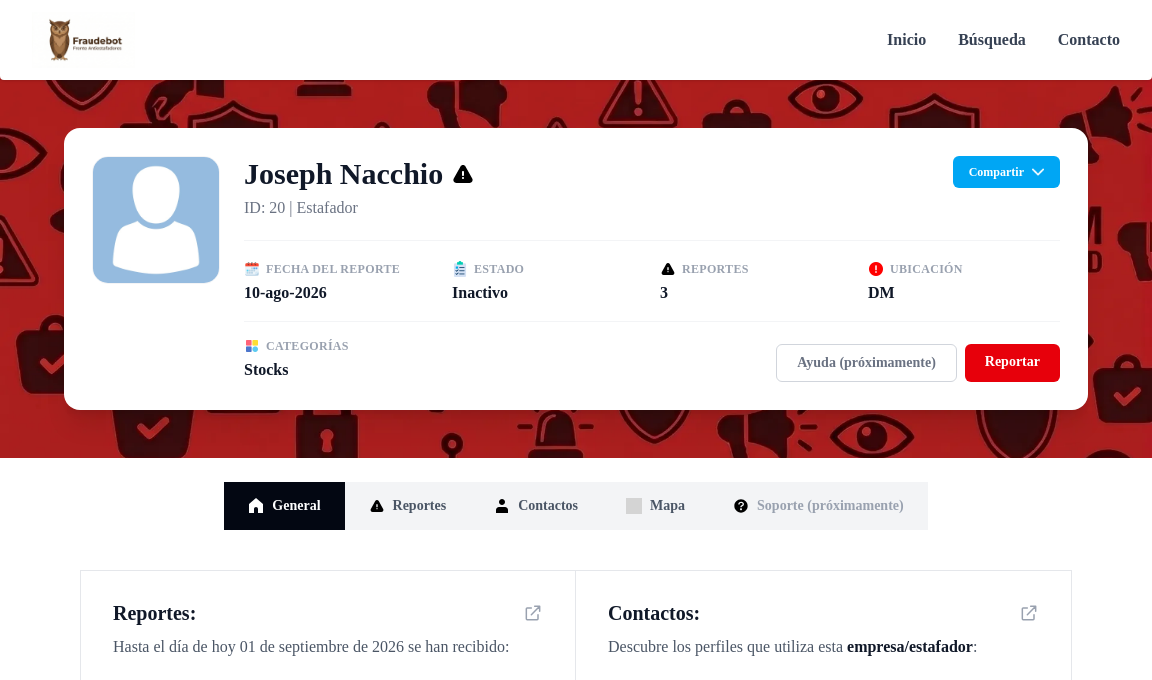
Scenario: Report page › copies the profile URL from the Compartir menu
Click the button "Compartir" at (1006, 172), box [953,156,1060,188]
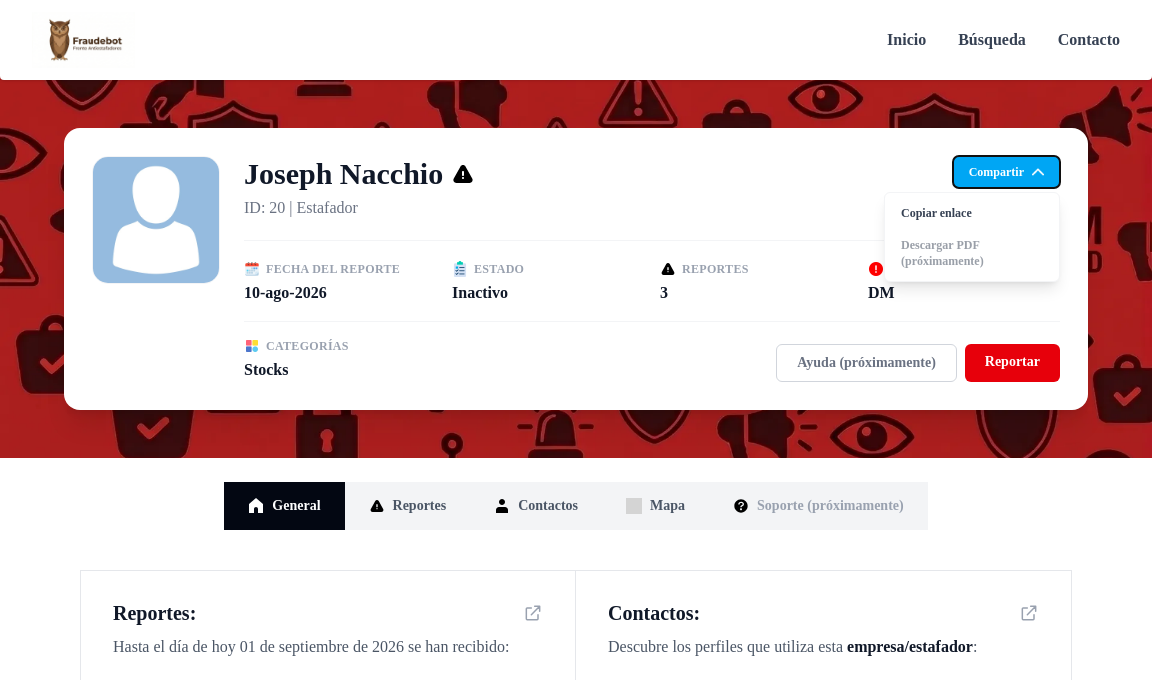
Check: the menu item "Copiar enlace" is shown
Check: the menu item "Descargar PDF (próximamente)" is disabled, box [885,229,1059,277]
Click the menu item "Copiar enlace" at (972, 213), box [885,197,1059,229]
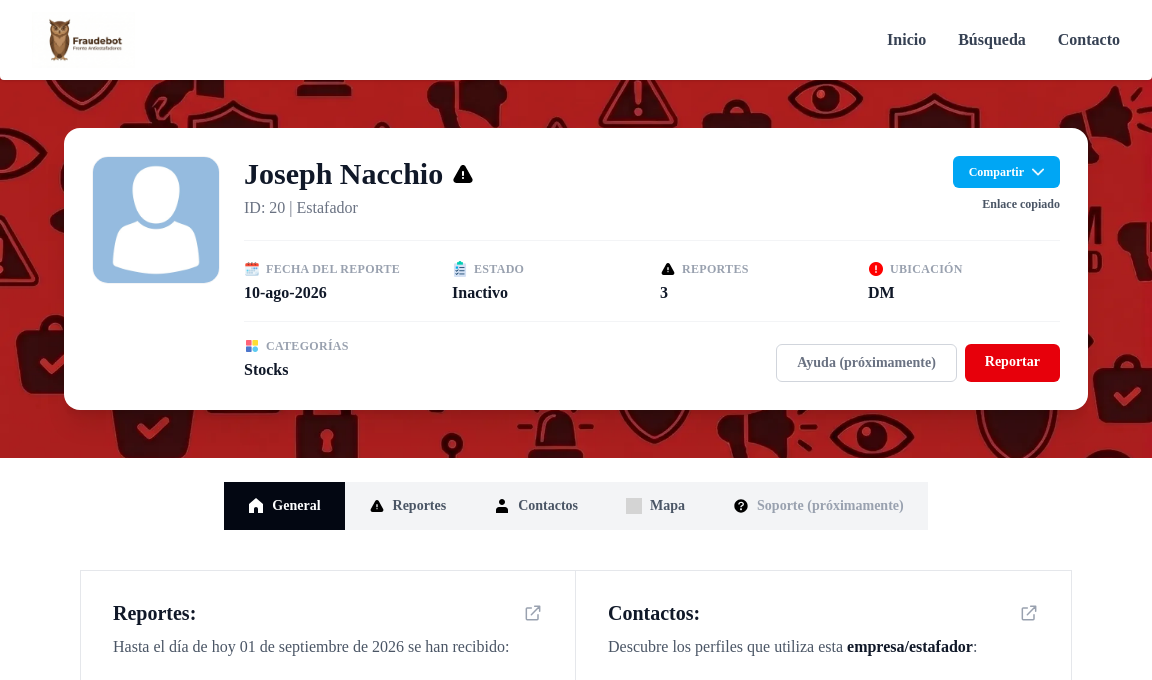
Check: the message reads "Enlace copiado", box [982,197,1060,211]
